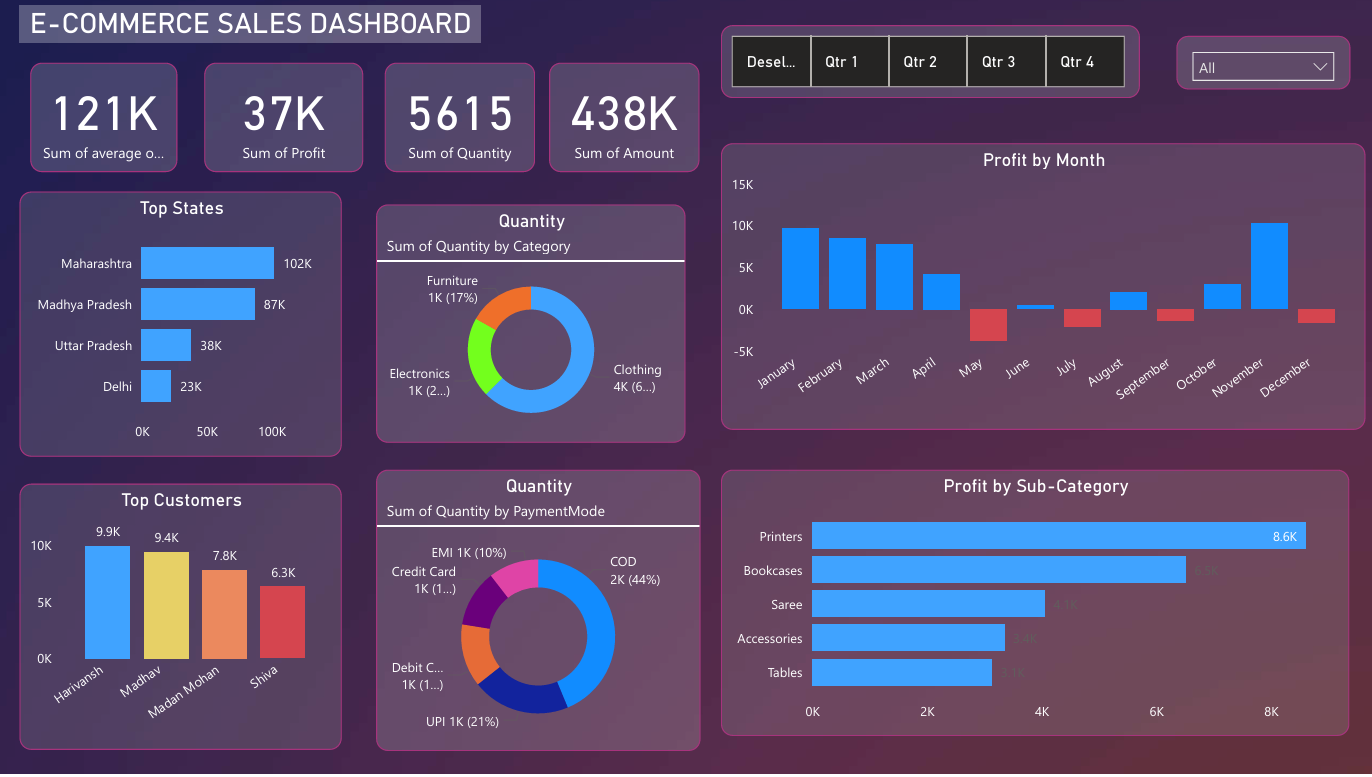

Layout of this report page (visuals, bound fields, positions):
{"tool":"powerbi","page":{"name":"Page 1","canvas":[1280,720],"ordinal":0},"visuals":[{"type":"columnChart","title":"Profit by Month","fields":{"Y":["Sum(Details.Profit)"],"Category":["Orders.Order Date.Variation.Date Hierarchy.Month"]},"box":[673.3,133.3,600,266.7],"z":0},{"type":"textbox","title":"E-COMMERCE SALES DASHBOARD","box":[20,5,430,35],"z":1000},{"type":"barChart","title":"Profit by Sub-Category","fields":{"Category":["Details.Sub-Category"],"Y":["Sum(Details.Profit)"]},"box":[673.3,436.7,585,248.3],"z":2000},{"type":"donutChart","title":"Quantity","fields":{"Y":["Sum(Details.Quantity)"],"Category":["Details.Category"]},"box":[351.7,190,288.3,221.7],"z":3000},{"type":"donutChart","title":"Quantity","fields":{"Y":["Sum(Details.Quantity)"],"Category":["Details.PaymentMode","Details.Category"]},"box":[351.7,436.7,301.7,261.7],"z":4000},{"type":"card","fields":{"Values":["Sum(Details.Amount)"]},"box":[513.3,58.3,140,101.7],"z":5000},{"type":"card","fields":{"Values":["Sum(Details.Quantity)"]},"box":[360,58.3,140,101.7],"z":6000},{"type":"card","fields":{"Values":["Sum(Details.Profit)"]},"box":[191.7,58.3,148.3,101.7],"z":7000},{"type":"card","fields":{"Values":["Sum(Details.average order value)"]},"box":[30,58.3,136.7,101.7],"z":8000},{"type":"barChart","title":"Top States","fields":{"Y":["Sum(Details.Amount)"],"Category":["Orders.State"]},"box":[20,178.3,300,246.7],"z":9000},{"type":"columnChart","title":"Top Customers","fields":{"Category":["Orders.CustomerName"],"Y":["Sum(Details.Amount)"]},"box":[20,450,300,248],"z":10000},{"type":"advancedSlicerVisual","fields":{"Values":["Orders.Order Date.Variation.Date Hierarchy.Quarter"]},"box":[673.3,23.3,390,68.3],"z":11000},{"type":"slicer","fields":{"Values":["Orders.State"]},"box":[1096.7,33.3,161.7,50],"z":12000}]}

Visuals, with their boxes in screenshot pixels (x1, y1, x2, y2), scaled from the page's 1280x720 canvas onto the 1372x777 screenshot:
"Profit by Month" columnChart: Rect(722, 144, 1365, 432)
"E-COMMERCE SALES DASHBOARD" textbox: Rect(21, 5, 482, 43)
"Profit by Sub-Category" barChart: Rect(722, 471, 1349, 739)
"Quantity" donutChart: Rect(377, 205, 686, 444)
"Quantity" donutChart: Rect(377, 471, 700, 754)
card - Sum(Details.Amount): Rect(550, 63, 700, 173)
card - Sum(Details.Quantity): Rect(386, 63, 536, 173)
card - Sum(Details.Profit): Rect(205, 63, 364, 173)
card - Sum(Details.average order value): Rect(32, 63, 179, 173)
"Top States" barChart: Rect(21, 192, 343, 459)
"Top Customers" columnChart: Rect(21, 486, 343, 753)
advancedSlicerVisual - Orders.Order Date.Variation.Date Hierarchy.Quarter: Rect(722, 25, 1140, 99)
slicer - Orders.State: Rect(1176, 36, 1349, 90)
